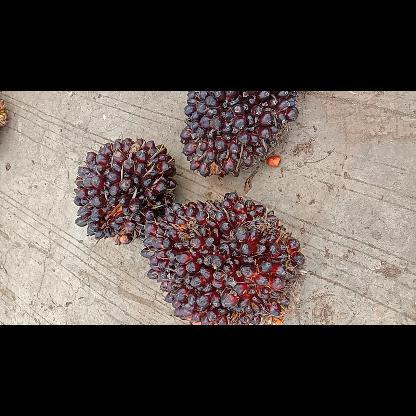TBS mentah: (139, 190, 309, 324), (70, 136, 176, 248), (174, 90, 304, 178)
